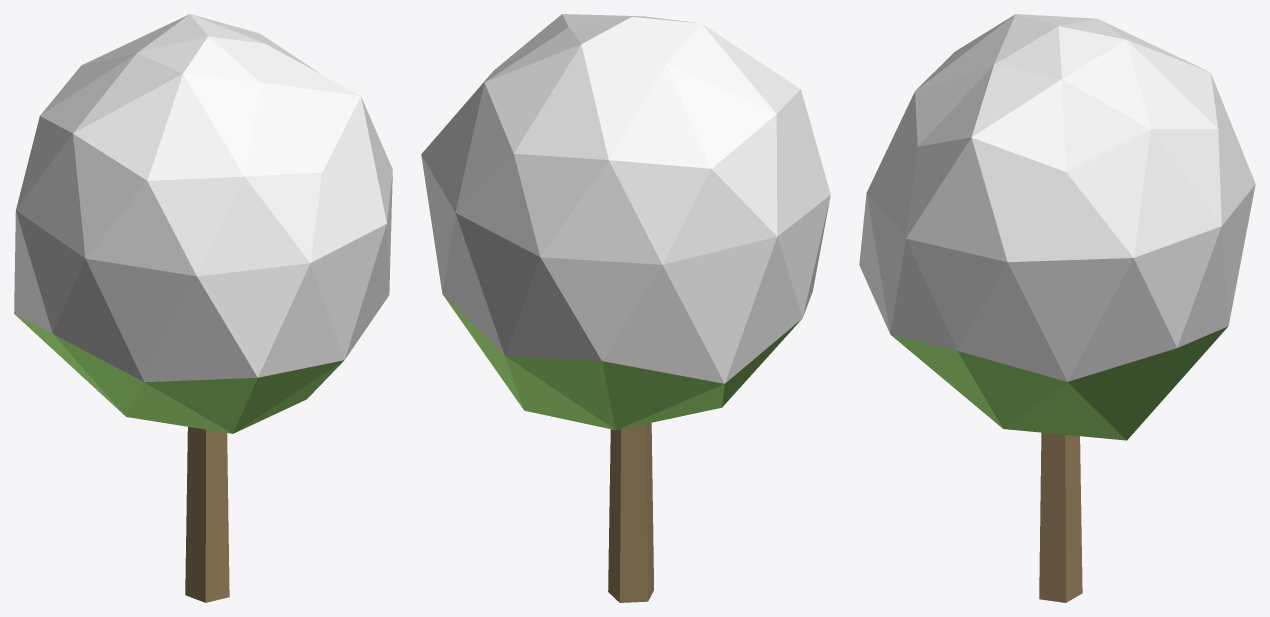
Rendered from Thuja_Tree_s_Snow_05_LOD.fbx.
3 renders of one model, left to right at view 1: azimuth 30°, elevation 25°; view 2: azimuth 150°, elevation 25°; view 3: azimuth 270°, elevation 25°, orthographic. The views are drawn at different scales.
Visible parts, largest first — view 1: Thuja_Tree_s_Snow_05_LOD0; view 2: Thuja_Tree_s_Snow_05_LOD0; view 3: Thuja_Tree_s_Snow_05_LOD0.
Boxes of the visible parts, x1,y1,x2,y2 form: Thuja_Tree_s_Snow_05_LOD0: [14, 14, 392, 602]; Thuja_Tree_s_Snow_05_LOD0: [421, 14, 830, 602]; Thuja_Tree_s_Snow_05_LOD0: [859, 14, 1255, 602].
Size of what is drawn, in the model's own units: 182 by 292 by 185.
